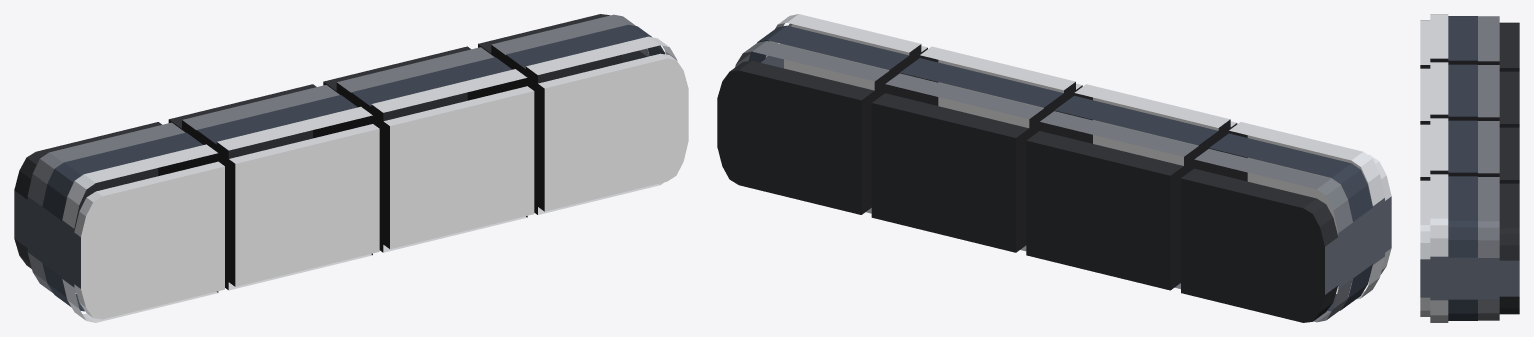
The model's file is lrt.gltf.
The picture shows the model from 3 angles, left to right: view 1: azimuth 30°, elevation 25°; view 2: azimuth 150°, elevation 25°; view 3: azimuth 270°, elevation 25°; orthographic projection. The views are drawn at different scales.
Parts seen in each view (by area): view 1: lrt; view 2: lrt; view 3: lrt.
Part boxes in pixels (<box>): lrt: <box>14,14,688,322</box>; lrt: <box>717,14,1391,322</box>; lrt: <box>1420,14,1519,322</box>.
Size of the model in its own units: 20 by 4.4 by 3.8.
1 material, 1 textured.
